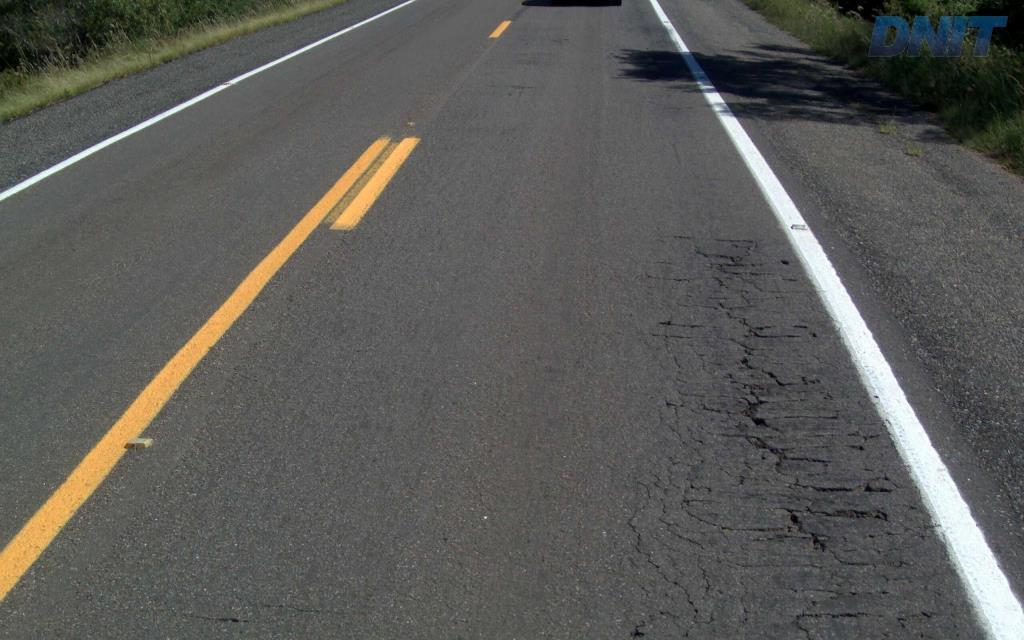crack: (721, 421, 832, 475), (720, 367, 798, 434), (766, 507, 833, 552), (790, 610, 867, 639), (804, 505, 889, 522)
